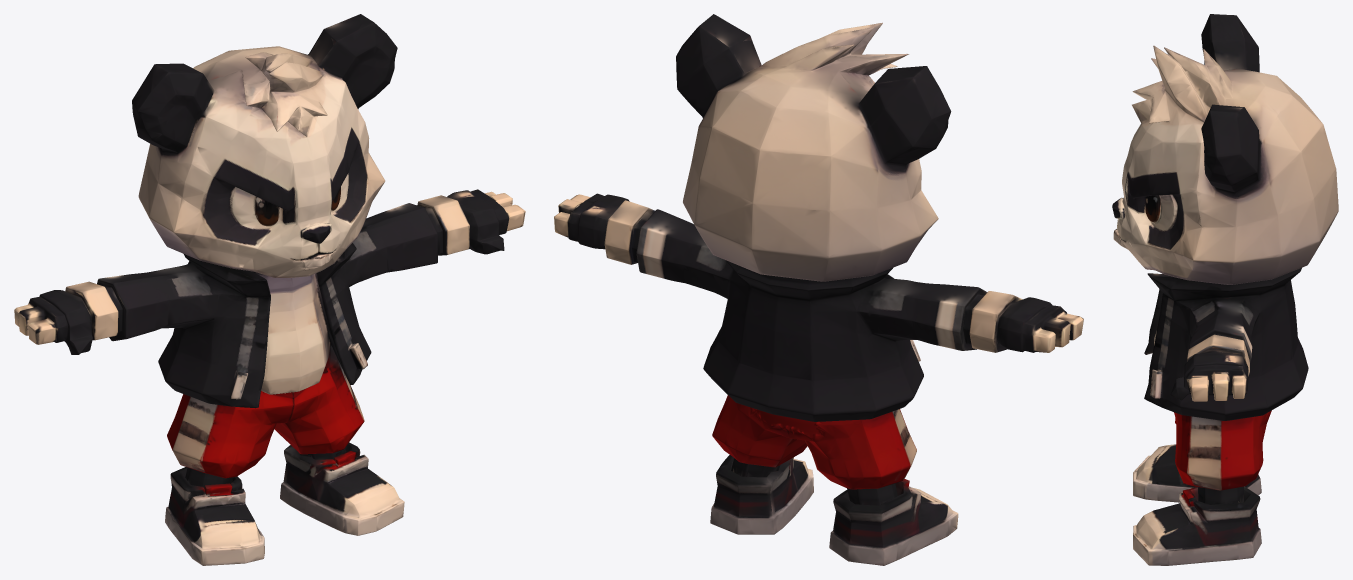
The model's file is pam_usuario_sem_rabo.glb.
3 renders of one model, left to right at view 1: azimuth 30°, elevation 25°; view 2: azimuth 150°, elevation 25°; view 3: azimuth 270°, elevation 25°, orthographic. The views are drawn at different scales.
Visible parts, largest first — view 1: Pam_Usuario_Sem_Rabo; view 2: Pam_Usuario_Sem_Rabo; view 3: Pam_Usuario_Sem_Rabo.
Boxes of the visible parts, left/top/right/bottom form: Pam_Usuario_Sem_Rabo: left=14, top=14, right=525, bottom=565; Pam_Usuario_Sem_Rabo: left=554, top=14, right=1083, bottom=565; Pam_Usuario_Sem_Rabo: left=1112, top=14, right=1338, bottom=565.
Size of the model in its own units: 1.13 by 1.04 by 0.4657.
Materials: 1 (1 with a texture image).
